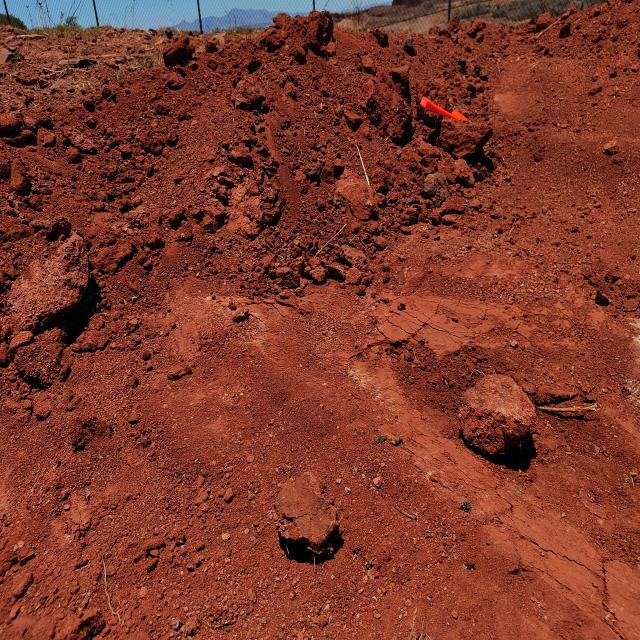Orange_hammer: (419, 96, 468, 122)
